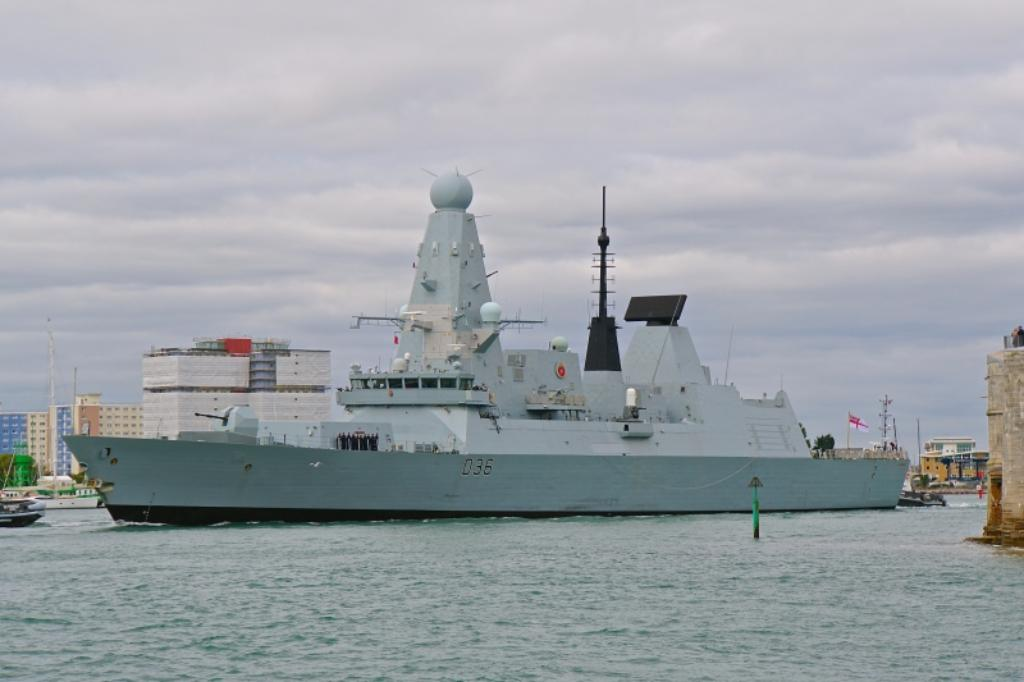Warship: (58, 158, 916, 530)
